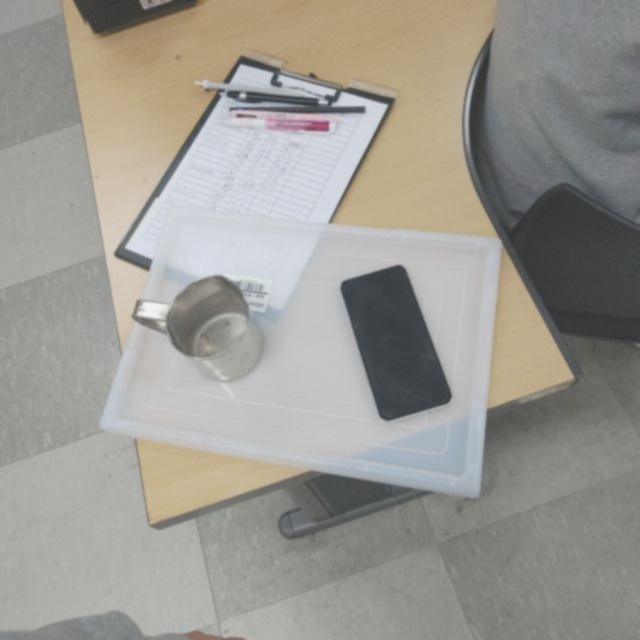cup: (131, 270, 268, 385)
phone: (338, 263, 454, 423)
